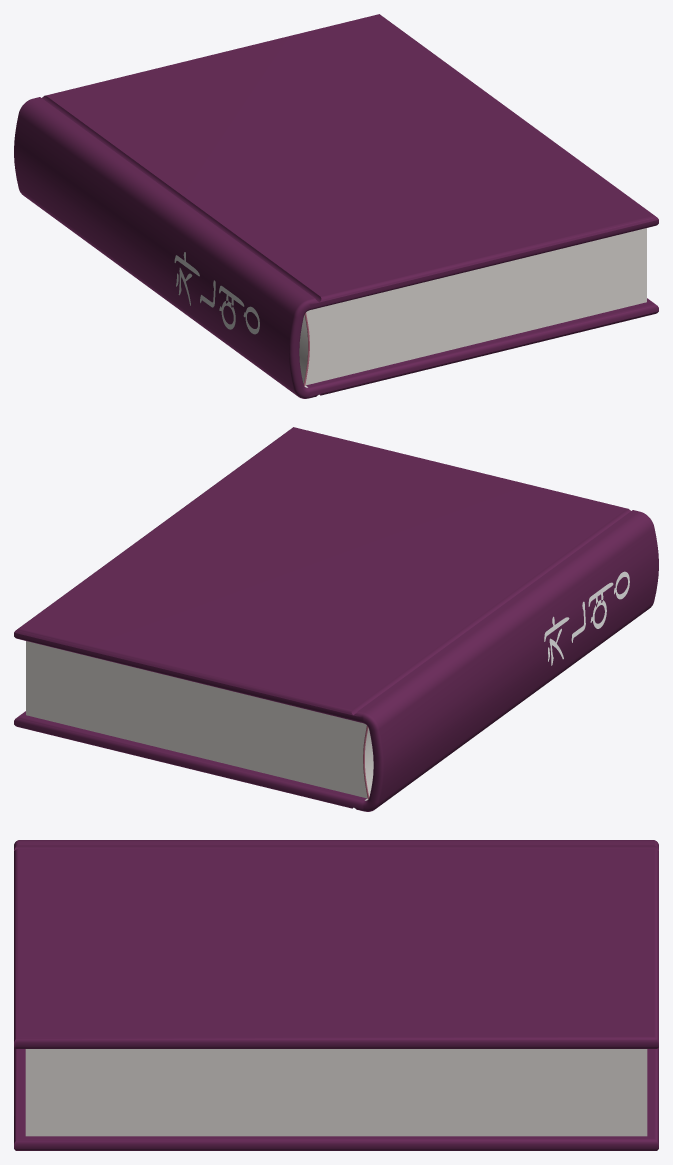
The model's file is book7.glb.
The picture shows the model from 3 angles, top to bottom: view 1: azimuth 30°, elevation 25°; view 2: azimuth 150°, elevation 25°; view 3: azimuth 270°, elevation 25°; orthographic projection. The views are drawn at different scales.
Parts seen in each view (by area): view 1: Geode, Text; view 2: Geode, Text; view 3: Geode.
Boxes of the visible parts, box(x1,y1,x2,y2) form: Geode: box(14, 14, 658, 398); Text: box(174, 252, 259, 334); Geode: box(14, 427, 658, 811); Text: box(544, 571, 629, 665); Geode: box(14, 840, 658, 1150).
Size of the model in its own units: 0.5055 by 0.1292 by 0.6604.
Materials: 3 (1 with a texture image).
